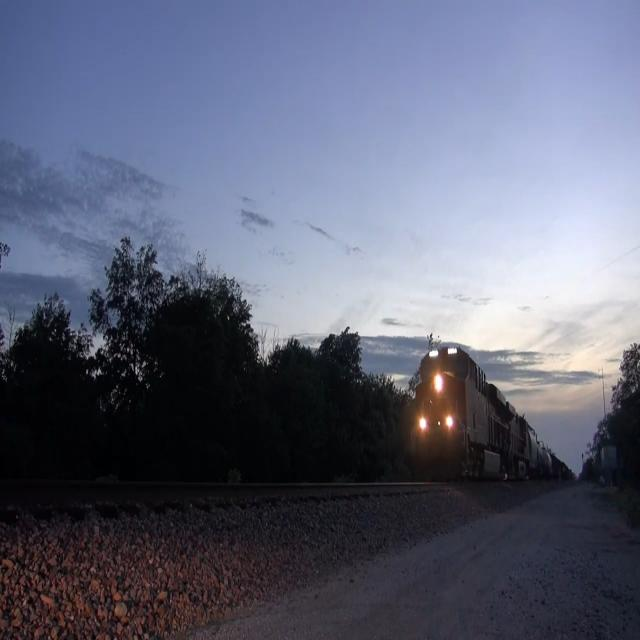locomotive: (406, 337, 508, 500)
